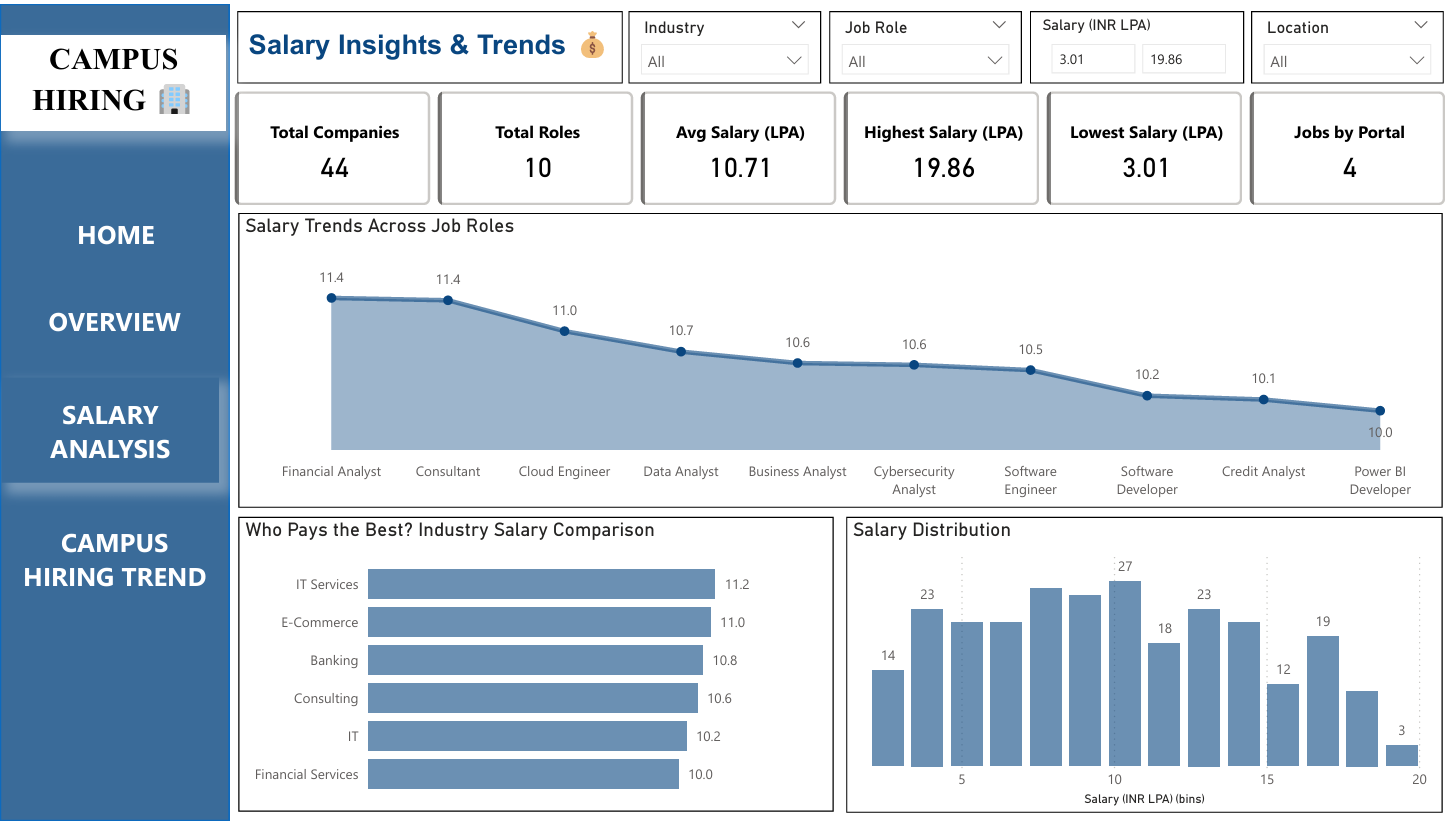

The page's visual inventory and layout, read from the dashboard file:
{"tool":"powerbi","page":{"name":"Salary Analysis","canvas":[1280,720],"ordinal":2},"visuals":[{"type":"cardVisual","fields":{"Data":["Count(campus_hiring_verified_companies_new.Company)","Count(campus_hiring_verified_companies_new.Job Role)","Avg(campus_hiring_verified_companies_new.Salary (INR LPA))","Max(campus_hiring_verified_companies_new.Salary (INR LPA))1","Min(campus_hiring_verified_companies_new.Salary (INR LPA))2","Count(campus_hiring_verified_companies_new.Job Portal)"]},"box":[201.8,72,1078.5,110],"z":0},{"type":"lineChart","title":"Salary Trends Across Job Roles","fields":{"Category":["campus_hiring_verified_companies_new.Job Role"],"Y":["Avg(campus_hiring_verified_companies_new.Salary (INR LPA))"]},"box":[209.9,184,1062.1,260],"z":1000},{"type":"columnChart","title":"Salary Distribution","fields":{"Category":["campus_hiring_verified_companies_new.Salary (INR LPA) (bins)"],"Y":["CountNonNull(campus_hiring_verified_companies_new.Salary (INR LPA))"]},"box":[746.5,452,525.6,260.7],"z":2000},{"type":"barChart","title":"Who Pays the Best? Industry Salary Comparison","fields":{"Category":["campus_hiring_verified_companies_new.Industry"],"Y":["Avg(campus_hiring_verified_companies_new.Salary (INR LPA))"]},"box":[210,452,525,260],"z":3000},{"type":"shape","box":[0,0,201.8,720.2],"z":4000},{"type":"slicer","fields":{"Values":["campus_hiring_verified_companies_new.Industry"]},"box":[554,6,170,63.6],"z":5000},{"type":"slicer","fields":{"Values":["campus_hiring_verified_companies_new.Job Role"]},"box":[731,6,170,63.6],"z":6000},{"type":"slicer","title":"Salary (INR LPA)","fields":{"Values":["campus_hiring_verified_companies_new.Salary (INR LPA)"]},"box":[908,6,189,64],"z":7000},{"type":"slicer","fields":{"Values":["campus_hiring_verified_companies_new.Location"]},"box":[1103,6,170,63.6],"z":8000},{"type":"textbox","box":[209,6.1,340,64],"z":9000},{"type":"actionButton","box":[1.2,167.5,201.8,68.5],"z":10000},{"type":"actionButton","box":[0,244.6,201.8,68.5],"z":11000},{"type":"actionButton","box":[1.2,328.9,192,92.9],"z":12000},{"type":"actionButton","box":[0,421.9,201.8,134.5],"z":13000},{"type":"textbox","box":[1,28,198,84],"z":14000}]}

Visuals, with their boxes in screenshot pixels (x1, y1, x2, y2), scaled from the page's 1280x720 canvas onto the 1450x823 screenshot:
cardVisual - Count(campus_hiring_verified_companies_new.Company) x Count(campus_hiring_verified_companies_new.Job Role): 229 82 1449 208
"Salary Trends Across Job Roles" lineChart: 238 210 1441 508
"Salary Distribution" columnChart: 846 517 1441 815
"Who Pays the Best? Industry Salary Comparison" barChart: 238 517 833 814
shape: 0 0 229 822
slicer - campus_hiring_verified_companies_new.Industry: 628 7 820 80
slicer - campus_hiring_verified_companies_new.Job Role: 828 7 1021 80
"Salary (INR LPA)" slicer: 1029 7 1243 80
slicer - campus_hiring_verified_companies_new.Location: 1249 7 1442 80
textbox: 237 7 622 80
actionButton: 1 191 230 270
actionButton: 0 280 229 358
actionButton: 1 376 219 482
actionButton: 0 482 229 636
textbox: 1 32 225 128
